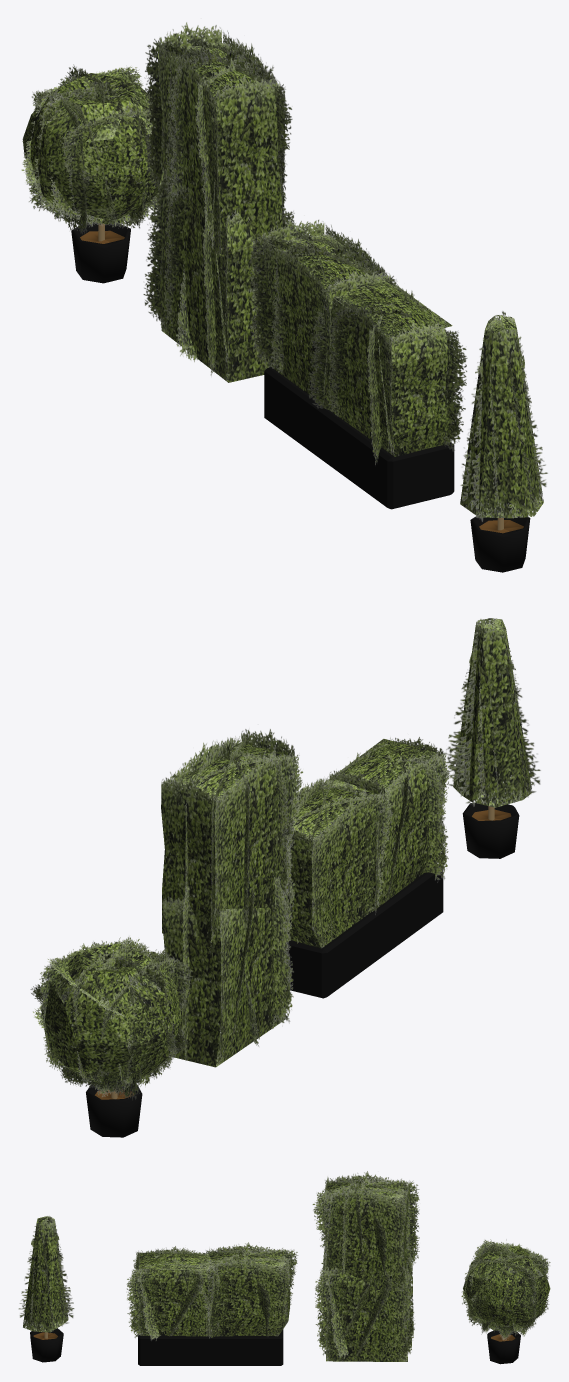
Rendered from office_plants.glb.
3 views of the same model, one above another, from view 1: azimuth 30°, elevation 25°; view 2: azimuth 150°, elevation 25°; view 3: azimuth 270°, elevation 25° (orthographic). The views are drawn at different scales.
Visible parts, largest first — view 1: boxwood3, boxwood2, Boxwood1, Boxwood4; view 2: boxwood2, boxwood3, Boxwood1, Boxwood4; view 3: boxwood3, boxwood2, Boxwood1, Boxwood4.
Part boxes in pixels (bbox=[...]): boxwood3: bbox=[249, 219, 467, 509]; boxwood2: bbox=[143, 22, 294, 382]; Boxwood1: bbox=[21, 64, 159, 283]; Boxwood4: bbox=[460, 311, 547, 572]; boxwood2: bbox=[161, 729, 303, 1067]; boxwood3: bbox=[287, 737, 450, 998]; Boxwood1: bbox=[30, 936, 192, 1137]; Boxwood4: bbox=[445, 618, 540, 858]; boxwood3: bbox=[126, 1242, 298, 1365]; boxwood2: bbox=[312, 1171, 419, 1361]; Boxwood1: bbox=[461, 1239, 550, 1364]; Boxwood4: bbox=[18, 1216, 74, 1362].
Bounding box in the file's own units: 6.41 × 11.47 × 30.63.
Materials: 4 (1 with a texture image).
